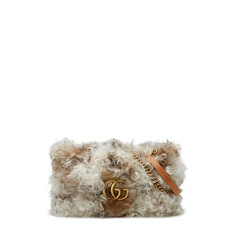Gucci: (44, 133, 184, 218), (97, 175, 136, 205)
